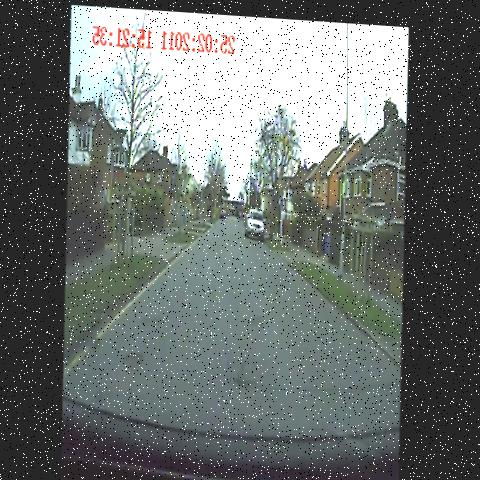pothole: (223, 341, 275, 393), (240, 298, 275, 341), (120, 344, 154, 381), (139, 302, 169, 338), (79, 324, 108, 358)
